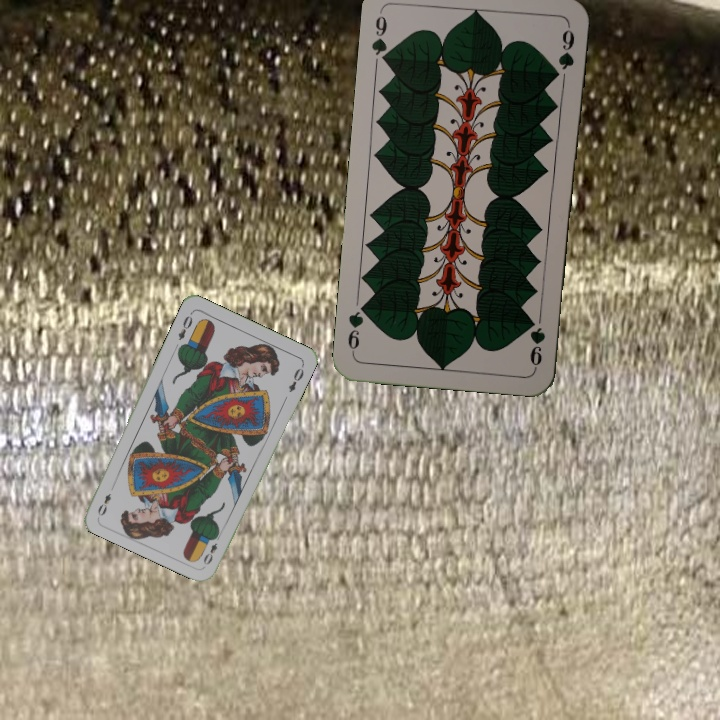EO: (199, 530, 224, 568), (174, 308, 195, 343)
G9: (367, 7, 392, 67), (526, 311, 548, 371)
